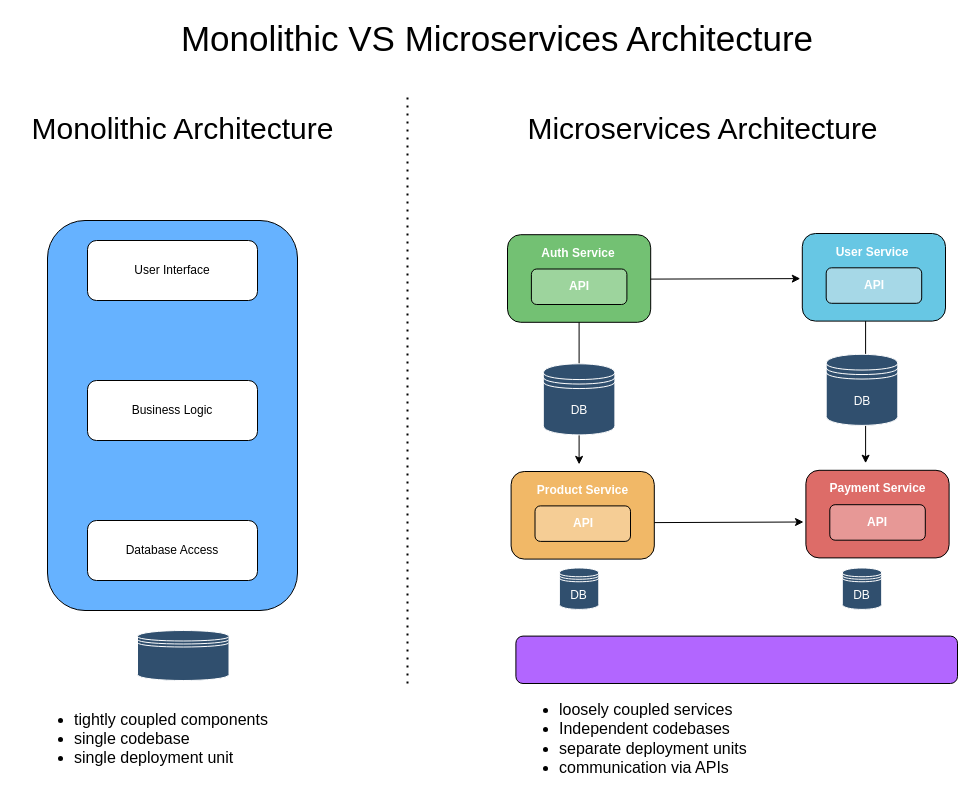
This 975x810 diagram has some shape labels left out. The centre of each missing label's shape, as x and y in pixels:
API GATEWAY: point 736,659
Database: point 182,655
